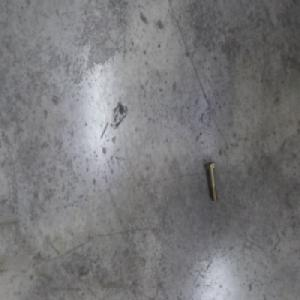Bolt: (203, 159, 216, 201)
